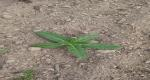osot: (28, 31, 123, 58)
